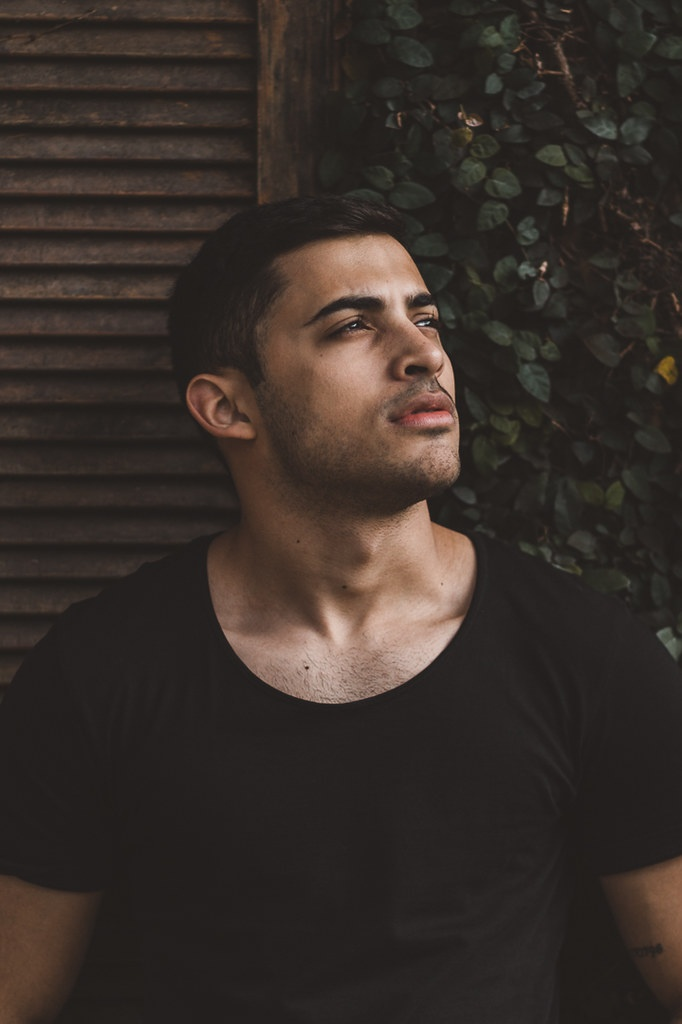without_mask: (176, 225, 479, 484)
